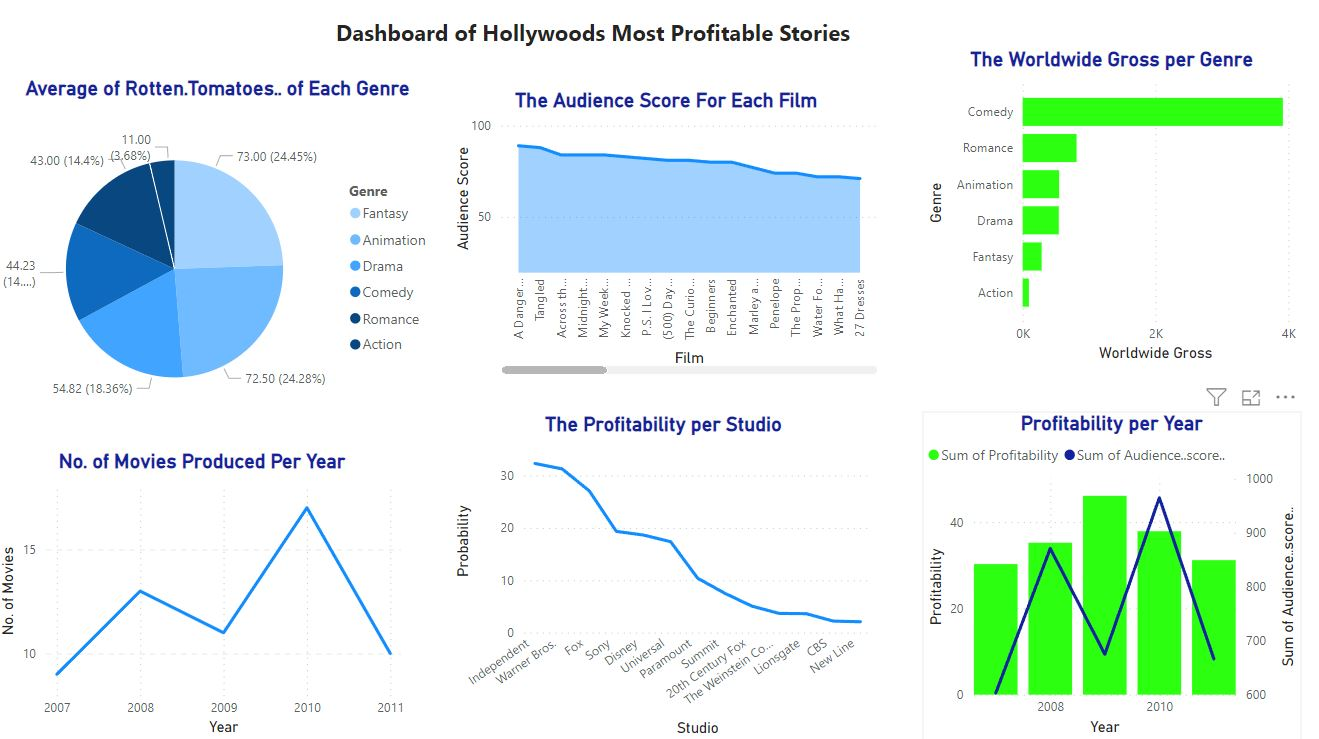

The page's visual inventory and layout, read from the dashboard file:
{"tool":"powerbi","page":{"name":"Dashboard","canvas":[1280,720],"ordinal":0},"visuals":[{"type":"lineChart","title":"No. of Movies Produced Per Year","fields":{"Y":["CountNonNull(clean_HMPS.Film)"],"Category":["clean_HMPS.Year"]},"box":[0,440.5,399.3,279.9],"z":0},{"type":"pieChart","title":"Average of Rotten.Tomatoes.. of Each Genre","fields":{"Category":["clean_HMPS.Genre"],"Y":["Avg(clean_HMPS.Rotten.Tomatoes..)"]},"box":[0,79.6,429.5,349.9],"z":1},{"type":"stackedAreaChart","title":"The Audience Score For Each Film","fields":{"Y":["Sum(clean_HMPS.Audience..score..)"],"Category":["clean_HMPS.Film"]},"box":[439.1,91.9,417.2,279.9],"z":2},{"type":"lineChart","title":"The Profitability per Studio ","fields":{"Category":["clean_HMPS.Lead.Studio"],"Y":["Sum(clean_HMPS.Profitability)"]},"box":[439.1,403.4,411.7,317],"z":3},{"type":"barChart","title":"The Worldwide Gross per Genre","fields":{"Category":["clean_HMPS.Genre"],"Y":["Sum(clean_HMPS.Worldwide.Gross)"]},"box":[894.7,52.1,365,307.4],"z":4},{"type":"lineStackedColumnComboChart","title":"Profitability per Year","fields":{"Category":["clean_HMPS.Year"],"Y":["Sum(clean_HMPS.Profitability)"],"Y2":["Sum(clean_HMPS.Audience..score..)"]},"box":[895,403,365,317],"z":7},{"type":"textbox","box":[289.5,0,575,79.6],"z":8}]}

Visuals, with their boxes in screenshot pixels (x1, y1, x2, y2), scaled from the page's 1280x720 canvas onto the 1319x739 screenshot:
"No. of Movies Produced Per Year" lineChart: (0, 452, 411, 738)
"Average of Rotten.Tomatoes.. of Each Genre" pieChart: (0, 82, 443, 441)
"The Audience Score For Each Film" stackedAreaChart: (452, 94, 882, 382)
"The Profitability per Studio " lineChart: (452, 414, 877, 738)
"The Worldwide Gross per Genre" barChart: (922, 53, 1298, 369)
"Profitability per Year" lineStackedColumnComboChart: (922, 414, 1298, 738)
textbox: (298, 0, 891, 82)
